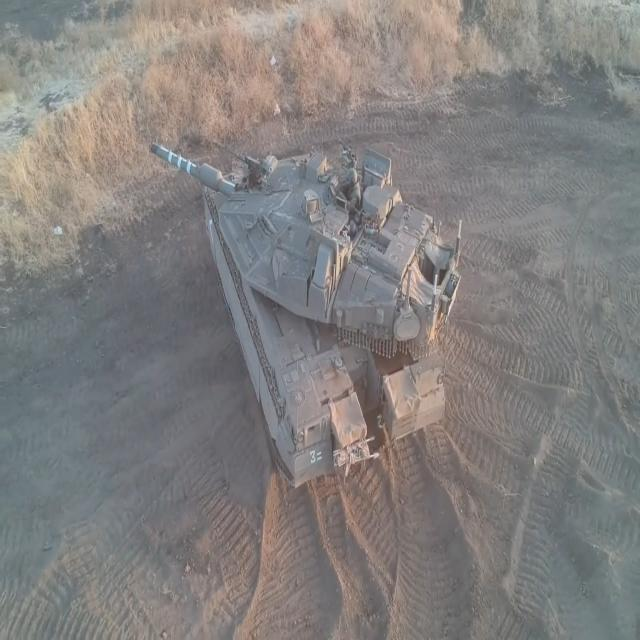tank: (146, 134, 472, 478)
